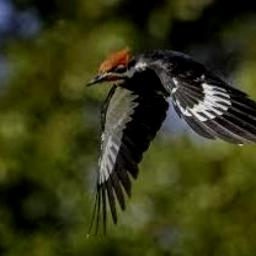Woodpecker: (86, 45, 256, 239)
